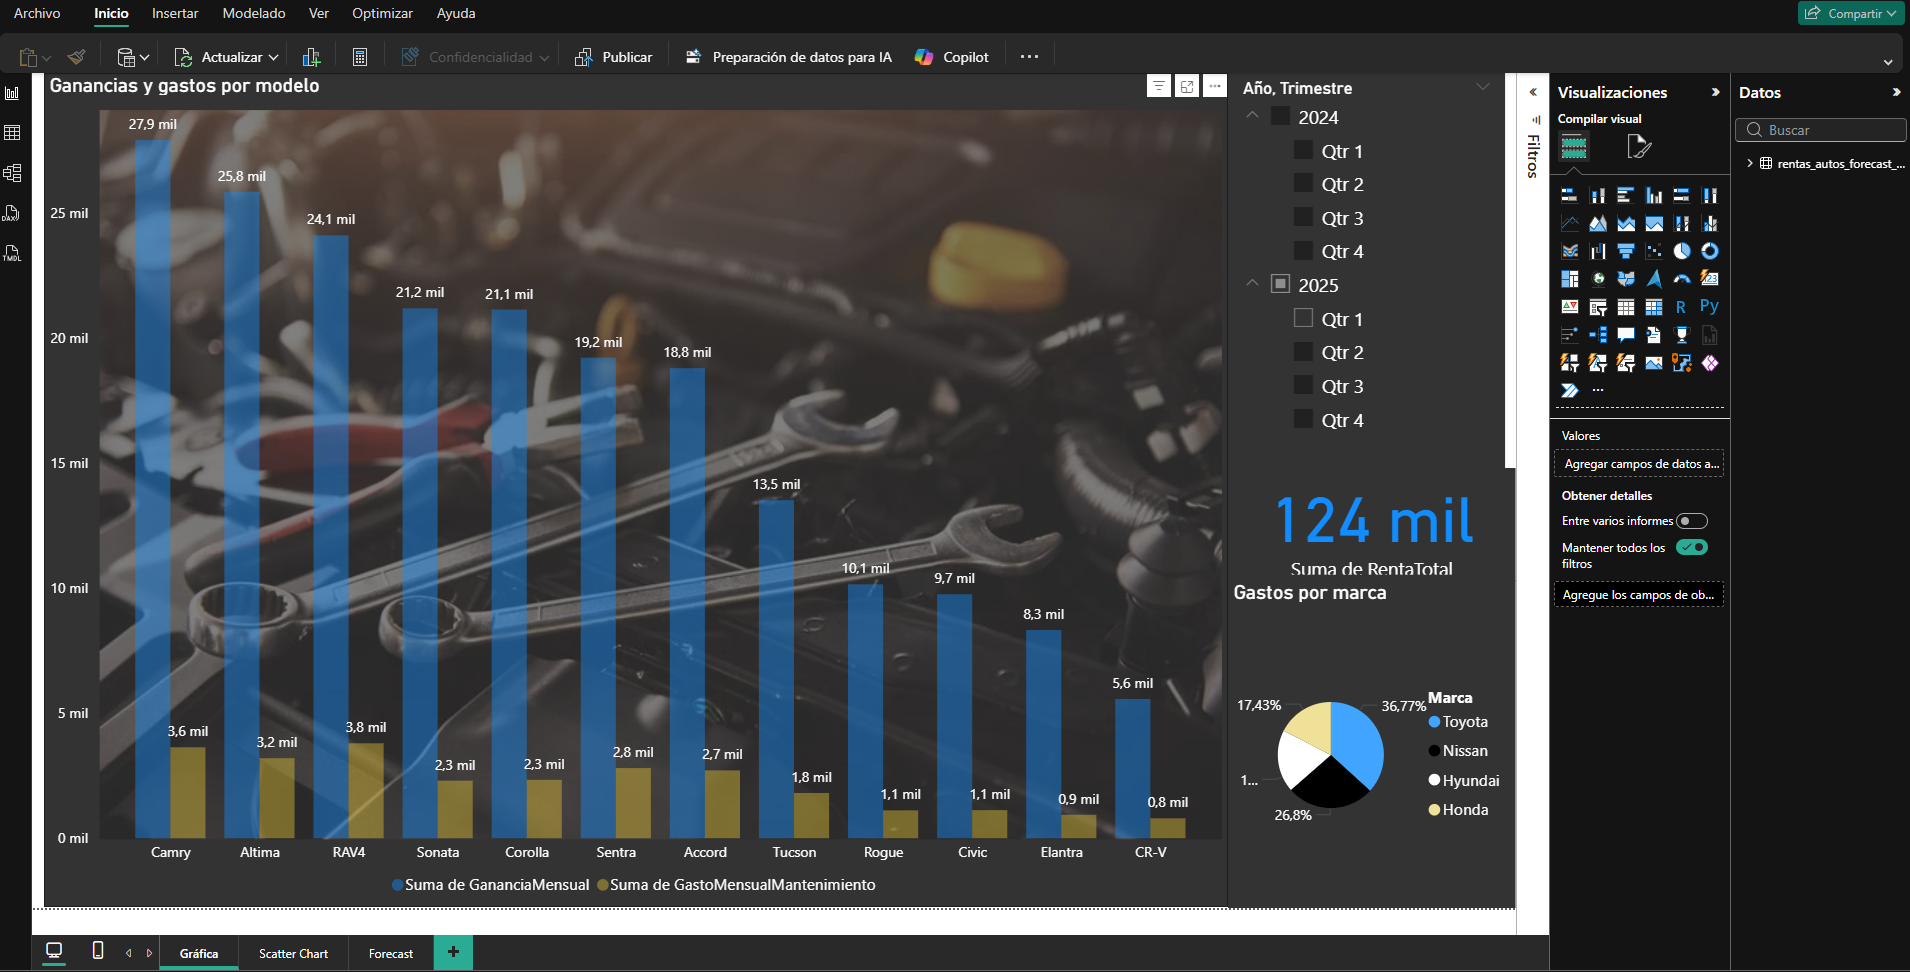

Layout of this report page (visuals, bound fields, positions):
{"tool":"powerbi","page":{"name":"Gráfica","canvas":[1280,720],"ordinal":0},"visuals":[{"type":"clusteredColumnChart","title":"Ganancias y gastos por modelo","fields":{"Category":["rentas_autos_forecast_updated.Modelo"],"Y":["Sum(rentas_autos_forecast_updated.GananciaMensual)","Sum(rentas_autos_forecast_updated.GastoMensualMantenimiento)"]},"box":[10.4,0,1021.2,719.4],"z":0},{"type":"slicer","fields":{"Values":["rentas_autos_forecast_updated.Fecha.Variación.Jerarquía de fechas.Año","rentas_autos_forecast_updated.Fecha.Variación.Jerarquía de fechas.Trimestre"]},"box":[1031.6,0,238.9,340.7],"z":1},{"type":"card","fields":{"Values":["Sum(rentas_autos_forecast_updated.TotalRenta)"]},"box":[1031.6,340.7,248.4,96.6],"z":2},{"type":"pieChart","title":"Gastos por marca","fields":{"Category":["rentas_autos_forecast_updated.Marca"],"Y":["Sum(rentas_autos_forecast_updated.GastoMensualMantenimiento)"]},"box":[1031.6,437.3,248.4,282.9],"z":3}]}

Visuals, with their boxes on the page's 1280x720 design canvas (x1, y1, x2, y2). These are canvas units, not pixel positions in the 1910x972 screenshot, which may show the page scaled, cropped or inside an application window:
"Ganancias y gastos por modelo" clusteredColumnChart: (10,0,1032,719)
slicer - rentas_autos_forecast_updated.Fecha.Variación.Jerarquía de fechas.Año x rentas_autos_forecast_updated.Fecha.Variación.Jerarquía de fechas.Trimestre: (1032,0,1270,341)
card - Sum(rentas_autos_forecast_updated.TotalRenta): (1032,341,1280,437)
"Gastos por marca" pieChart: (1032,437,1280,720)
